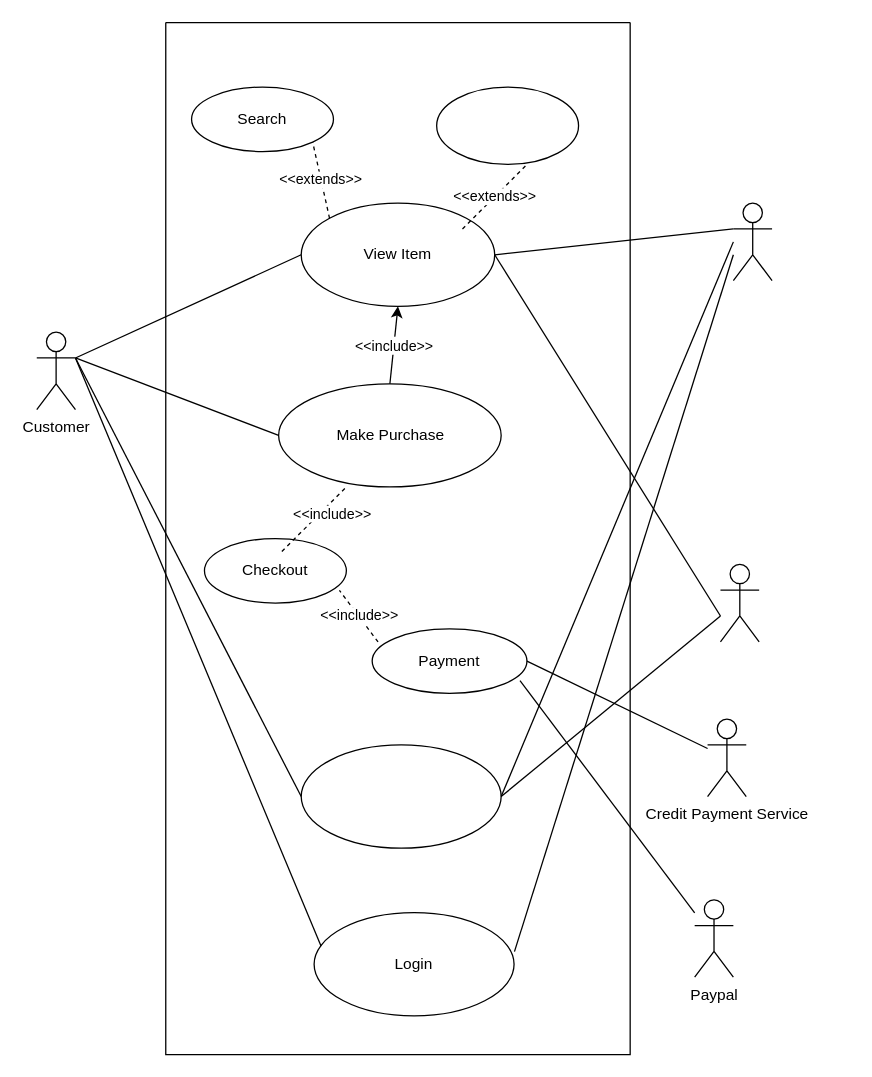
The diagram is 872 pixels wide and 1077 high, and some of its shapes have lost their labels. Each missing label, with the centre of its shape:
"<< service >> Authentication" belongs at point 752,241.
"Browse Catalog" belongs at point 507,125.
"Client Register" belongs at point 400,796.
"Manager" belongs at point 739,602.
